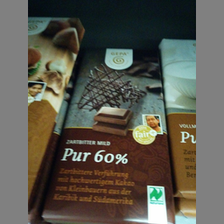chocolate: (42, 46, 174, 223)
